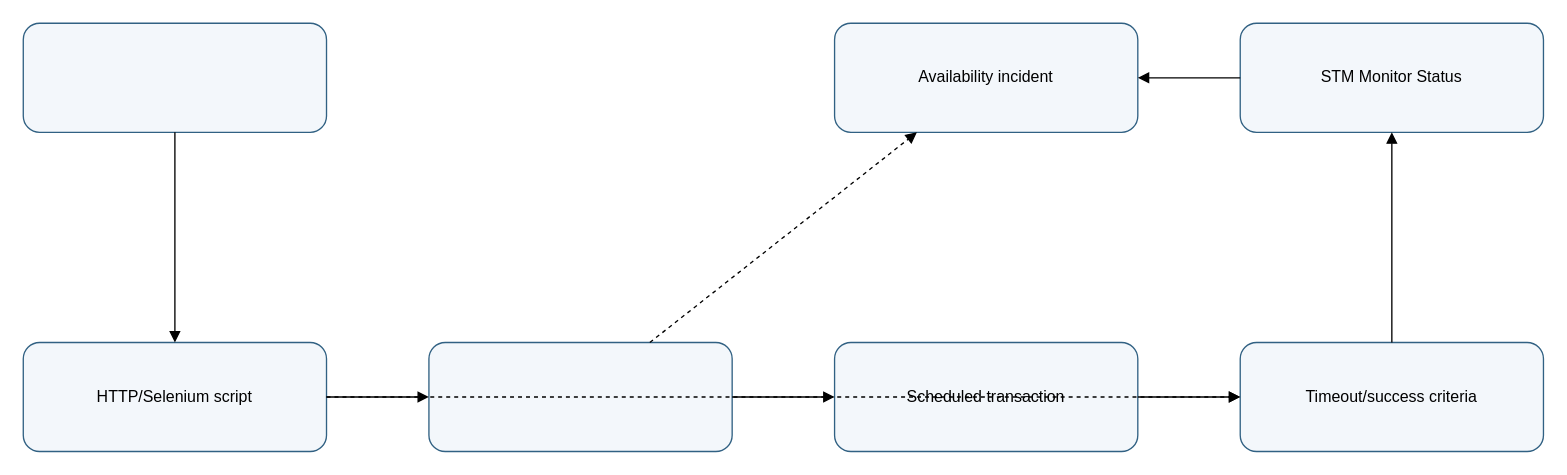
The diagram is 1567 pixels wide and 475 high, and some of its shapes have lost their labels. Here are the shapes that lost their labels. From the top down, the centre of each, then its label:
At point 174,77: "STM definition".
At point 580,396: "Target application host".
